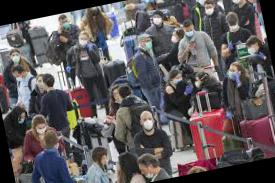mask_weared_incorrect: (139, 163, 156, 180), (112, 90, 123, 105)
with_mask: (141, 113, 155, 131), (35, 122, 51, 137), (225, 67, 240, 82), (140, 37, 156, 50), (100, 152, 113, 166), (183, 24, 196, 38), (172, 74, 186, 87), (35, 77, 46, 92), (77, 35, 90, 47), (227, 21, 240, 33), (203, 4, 215, 17), (246, 42, 259, 54), (16, 113, 28, 125), (193, 75, 204, 88), (59, 18, 70, 29), (13, 71, 23, 83), (11, 52, 21, 63), (152, 14, 163, 24), (87, 7, 99, 13), (196, 1, 208, 6), (231, 1, 243, 5)
